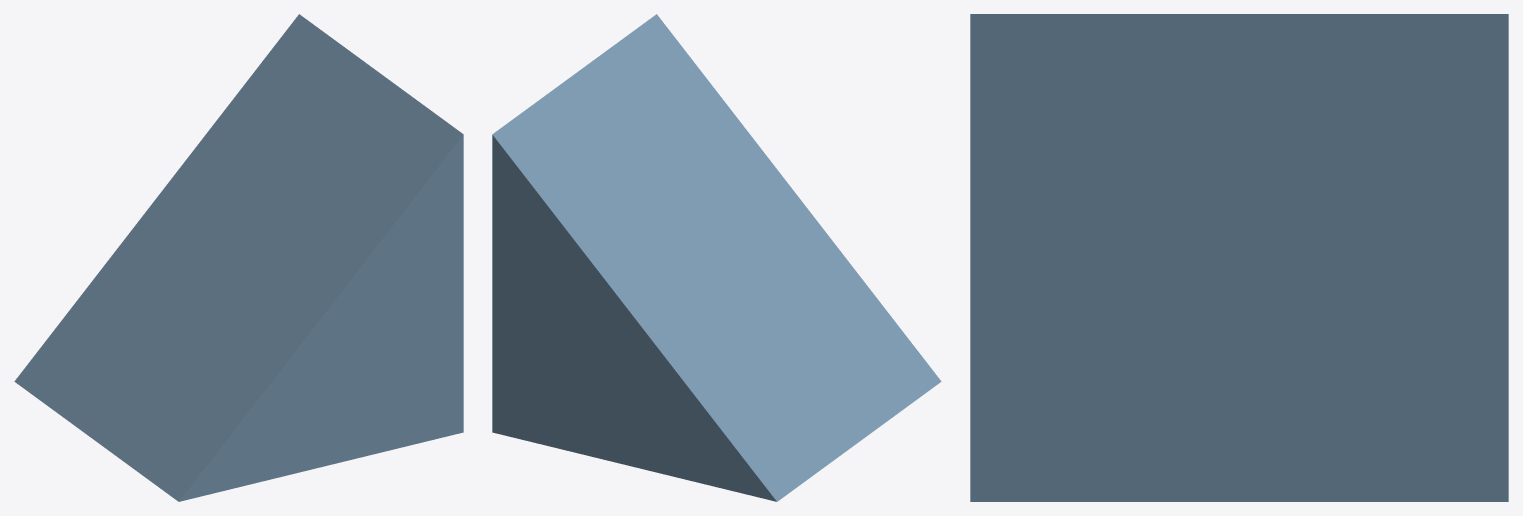
Rendered from OnOffConveyorB_Slope.glb.
3 renders of one model, left to right at view 1: azimuth 30°, elevation 25°; view 2: azimuth 150°, elevation 25°; view 3: azimuth 270°, elevation 25°, orthographic. The views are drawn at different scales.
Parts seen in each view (by area): view 1: OnOffConveyorB_Slope_body; view 2: OnOffConveyorB_Slope_body; view 3: OnOffConveyorB_Slope_body.
Boxes of the visible parts, <box> form: OnOffConveyorB_Slope_body: <box>14,14,463,501</box>; OnOffConveyorB_Slope_body: <box>492,14,941,501</box>; OnOffConveyorB_Slope_body: <box>970,14,1508,501</box>.
Bounding box in the file's own units: 1 × 1 × 1.
